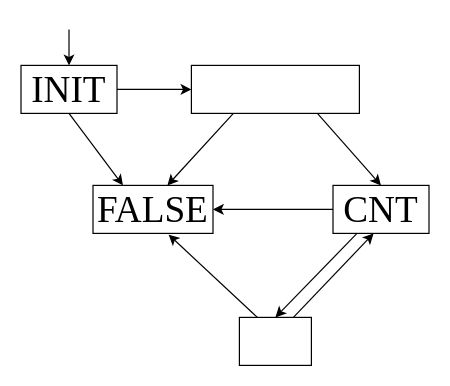
Image size: 450x386. Some labels were removed from this diagram. Each missing label, with the centre of its shape:
"INITCNT" belongs at point (274, 88).
"NB" belongs at point (274, 340).
